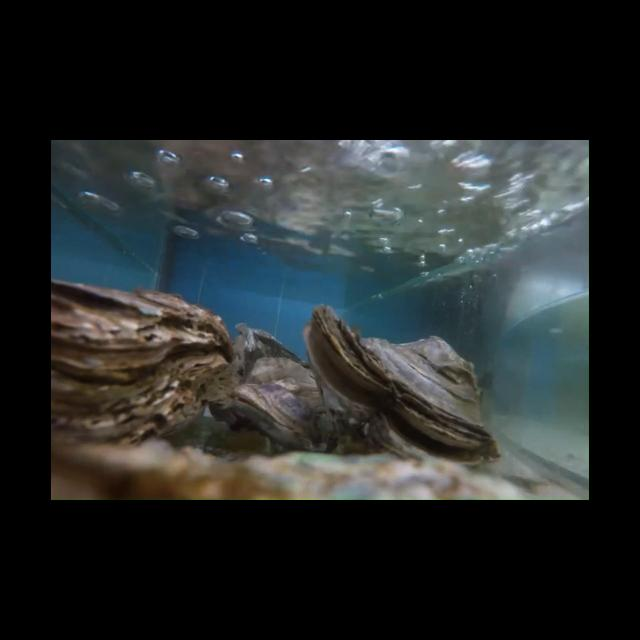Oyster-Closed: (51, 280, 236, 443), (51, 440, 528, 499), (232, 322, 301, 381)
Oyster-Open: (304, 306, 499, 462), (226, 378, 334, 451)
